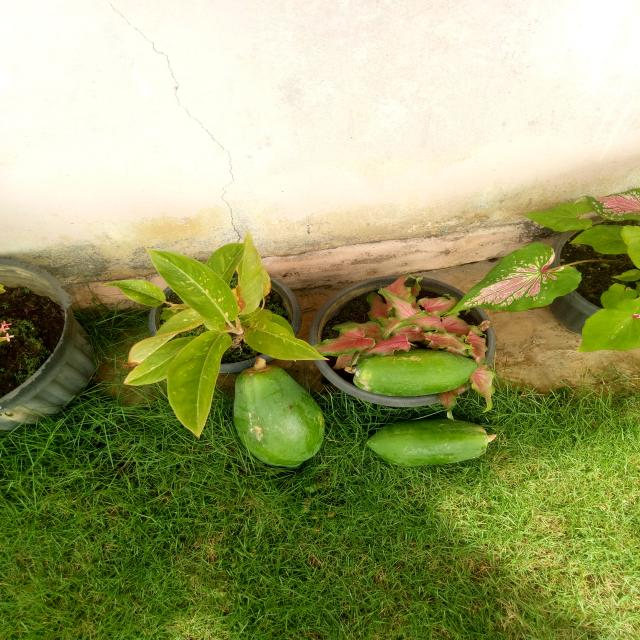Pepaya unrippen: (234, 361, 332, 469), (354, 415, 502, 471), (341, 349, 478, 393)
